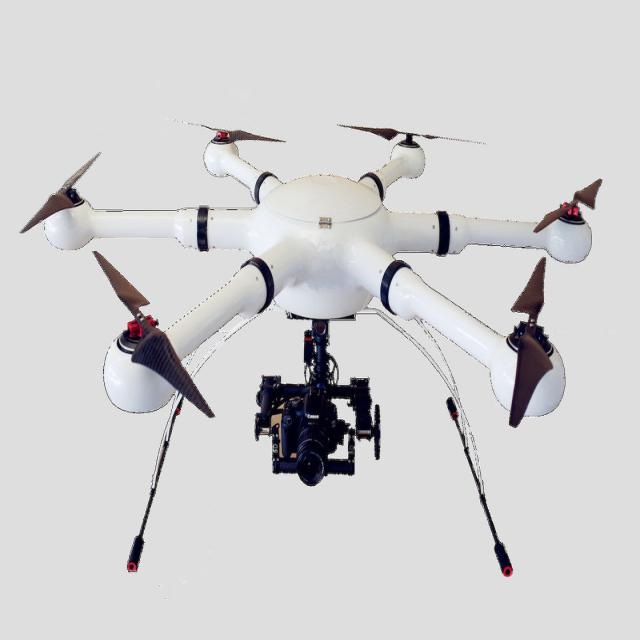drone: (17, 116, 640, 546)
